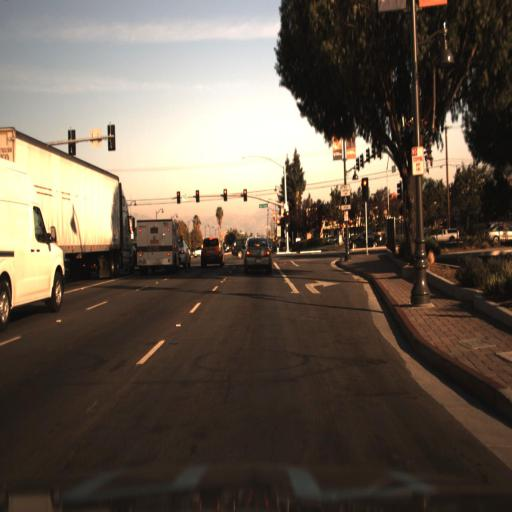car: (0, 146, 70, 335), (129, 215, 179, 281), (241, 232, 276, 280), (346, 220, 386, 255), (196, 233, 227, 274), (421, 218, 462, 247), (178, 235, 191, 271), (192, 243, 204, 268), (232, 232, 243, 259)
trafficLight-Red: (359, 177, 371, 195), (239, 183, 249, 202), (174, 186, 184, 203), (220, 186, 228, 201), (221, 185, 229, 199), (242, 186, 249, 201), (175, 189, 183, 202), (193, 188, 201, 201), (193, 188, 200, 202), (283, 207, 290, 220)
truck: (44, 152, 142, 289)
